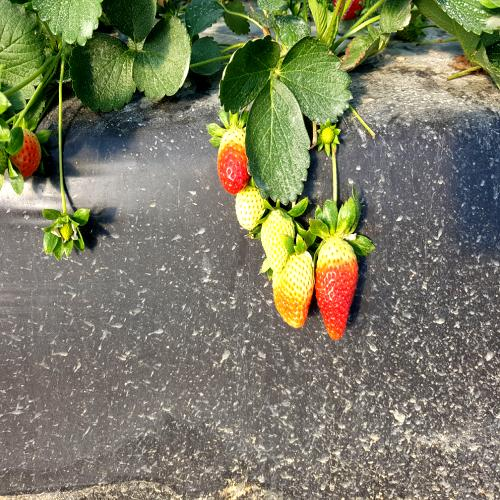partially-ripe: (315, 232, 361, 346), (273, 242, 316, 336), (218, 117, 252, 196)
